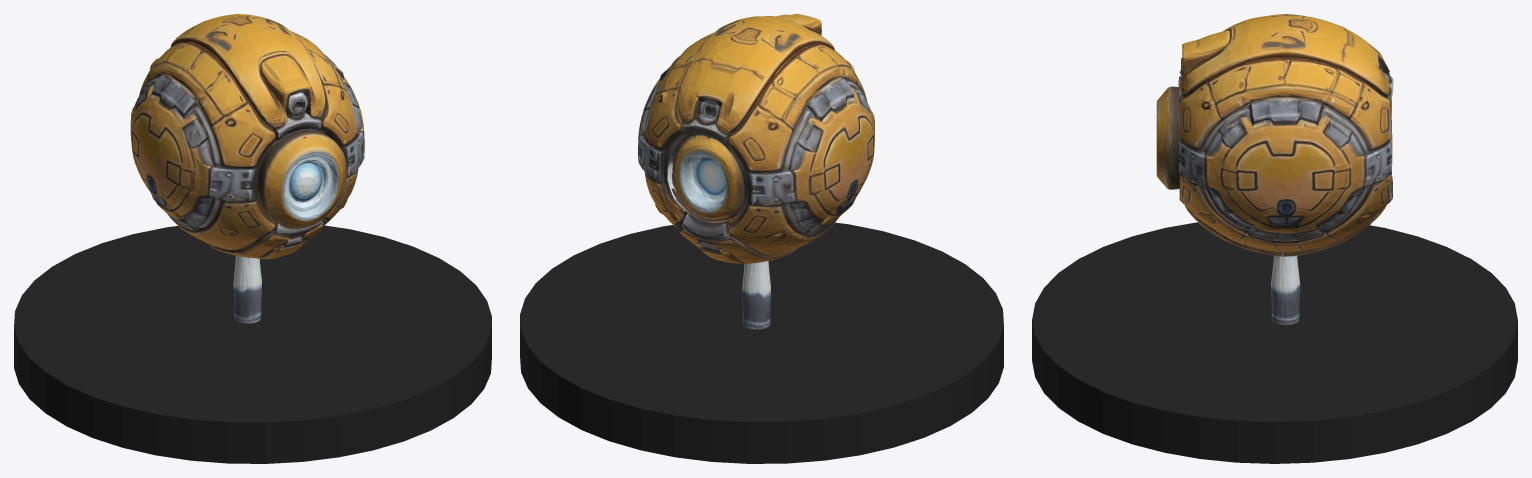
The model's file is pf-mv4-shield-drone.glb.
The picture shows the model from 3 angles, left to right: view 1: azimuth 30°, elevation 25°; view 2: azimuth 150°, elevation 25°; view 3: azimuth 270°, elevation 25°; orthographic projection.
Parts seen in each view (by area): view 1: base, figure; view 2: base, figure; view 3: base, figure.
Part boxes in pixels (box(x1,y1,x2,y2)): base: box(14, 225, 491, 463); figure: box(130, 14, 364, 323); base: box(520, 222, 1003, 463); figure: box(638, 14, 874, 329); base: box(1032, 222, 1517, 463); figure: box(1156, 14, 1393, 325).
Bounding box in the file's own units: 1.26 × 0.97 × 1.26.
Materials: 2 (1 with a texture image).
